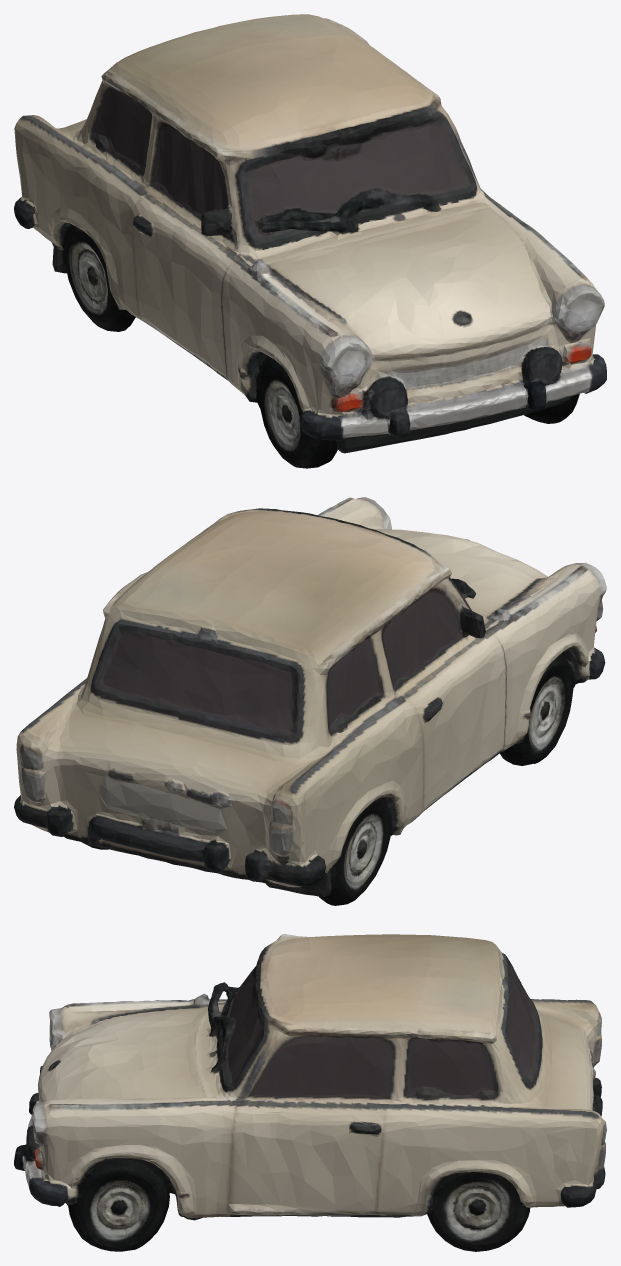
File: trabant.fbx
3 renders of one model, top to bottom at view 1: azimuth 30°, elevation 25°; view 2: azimuth 150°, elevation 25°; view 3: azimuth 270°, elevation 25°, orthographic. The views are drawn at different scales.
Parts seen in each view (by area): view 1: Mesh_0; view 2: Mesh_0; view 3: Mesh_0.
Boxes of the visible parts, box(x1,y1,x2,y2) form: Mesh_0: box(14, 14, 606, 468); Mesh_0: box(14, 497, 606, 905); Mesh_0: box(14, 934, 606, 1251).
Size of the model in its own units: 1.69 by 1.44 by 3.28.
Materials: 1 (1 with a texture image).
